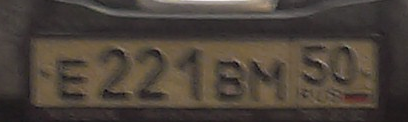character: (134, 44, 169, 103), (247, 58, 289, 107), (99, 45, 134, 100), (175, 46, 205, 102), (213, 57, 248, 104), (57, 56, 93, 101), (299, 43, 332, 87), (330, 44, 362, 89)
